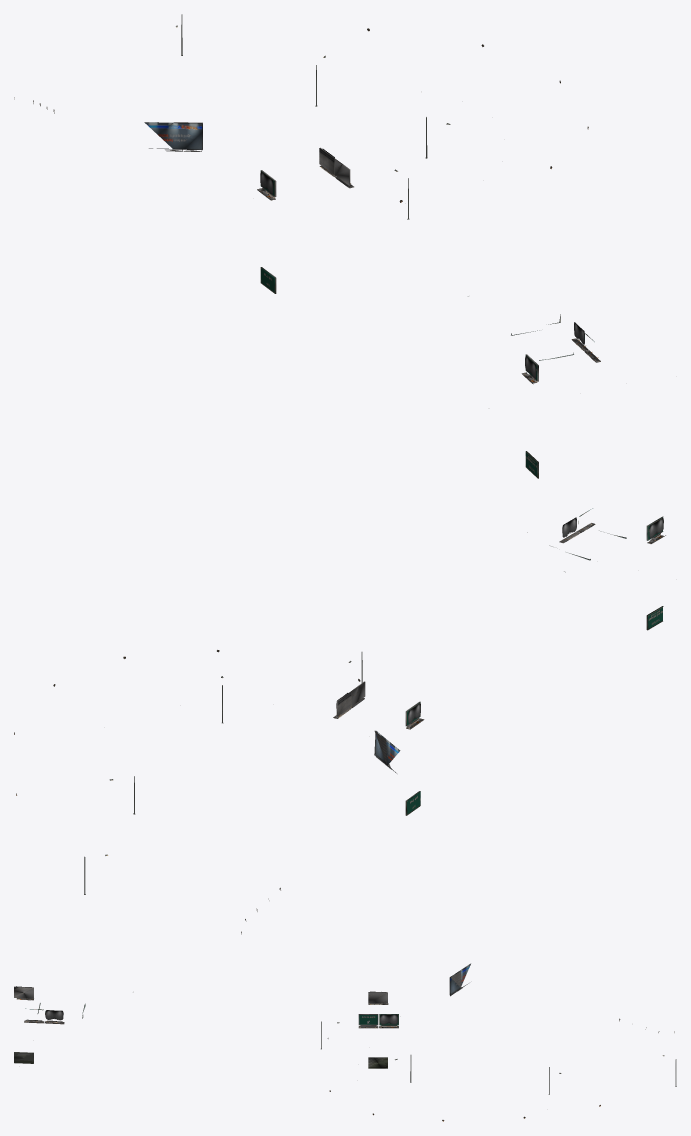
File: world_camden_11_-9.gltf
The picture shows the model from 3 angles, top to bottom: view 1: azimuth 30°, elevation 25°; view 2: azimuth 150°, elevation 25°; view 3: azimuth 270°, elevation 25°; orthographic projection. The views are drawn at different scales.
Size of the model in its own units: 107 by 33.36 by 230.
Materials: 21 (21 with a texture image).
